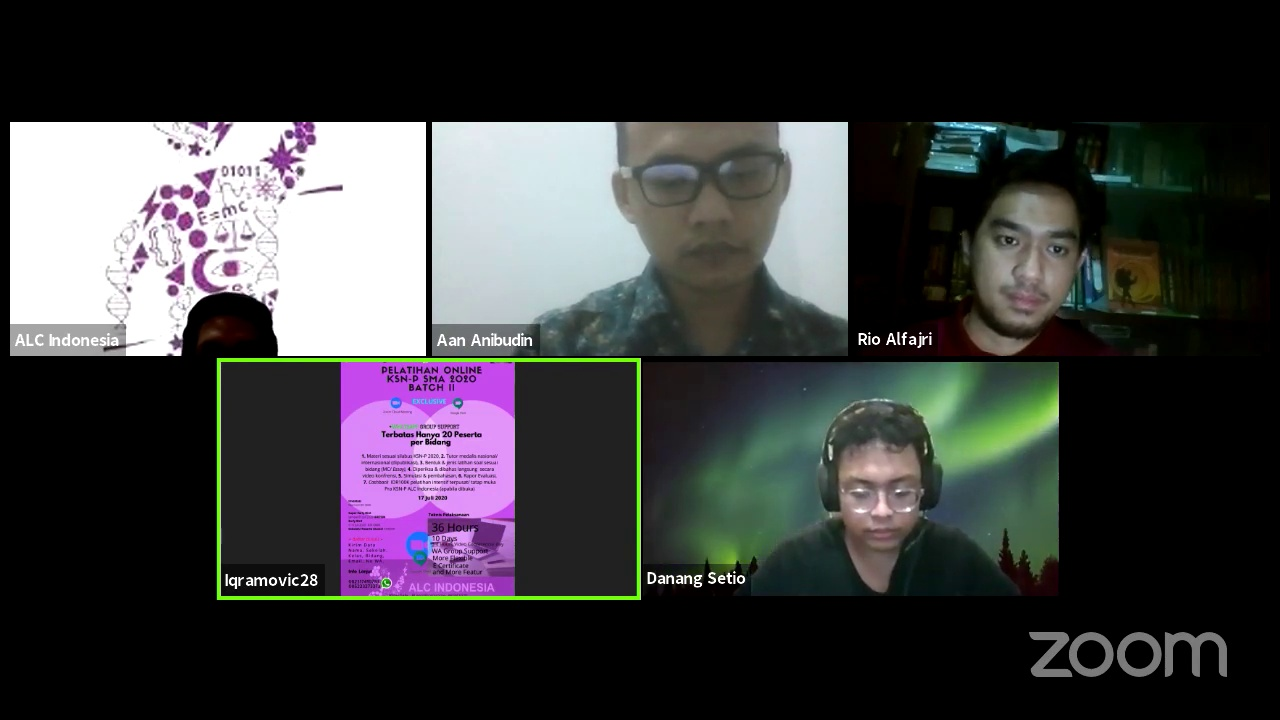Distracted: (804, 406, 963, 558)
Not Distracted: (607, 126, 808, 289), (958, 165, 1095, 343)
